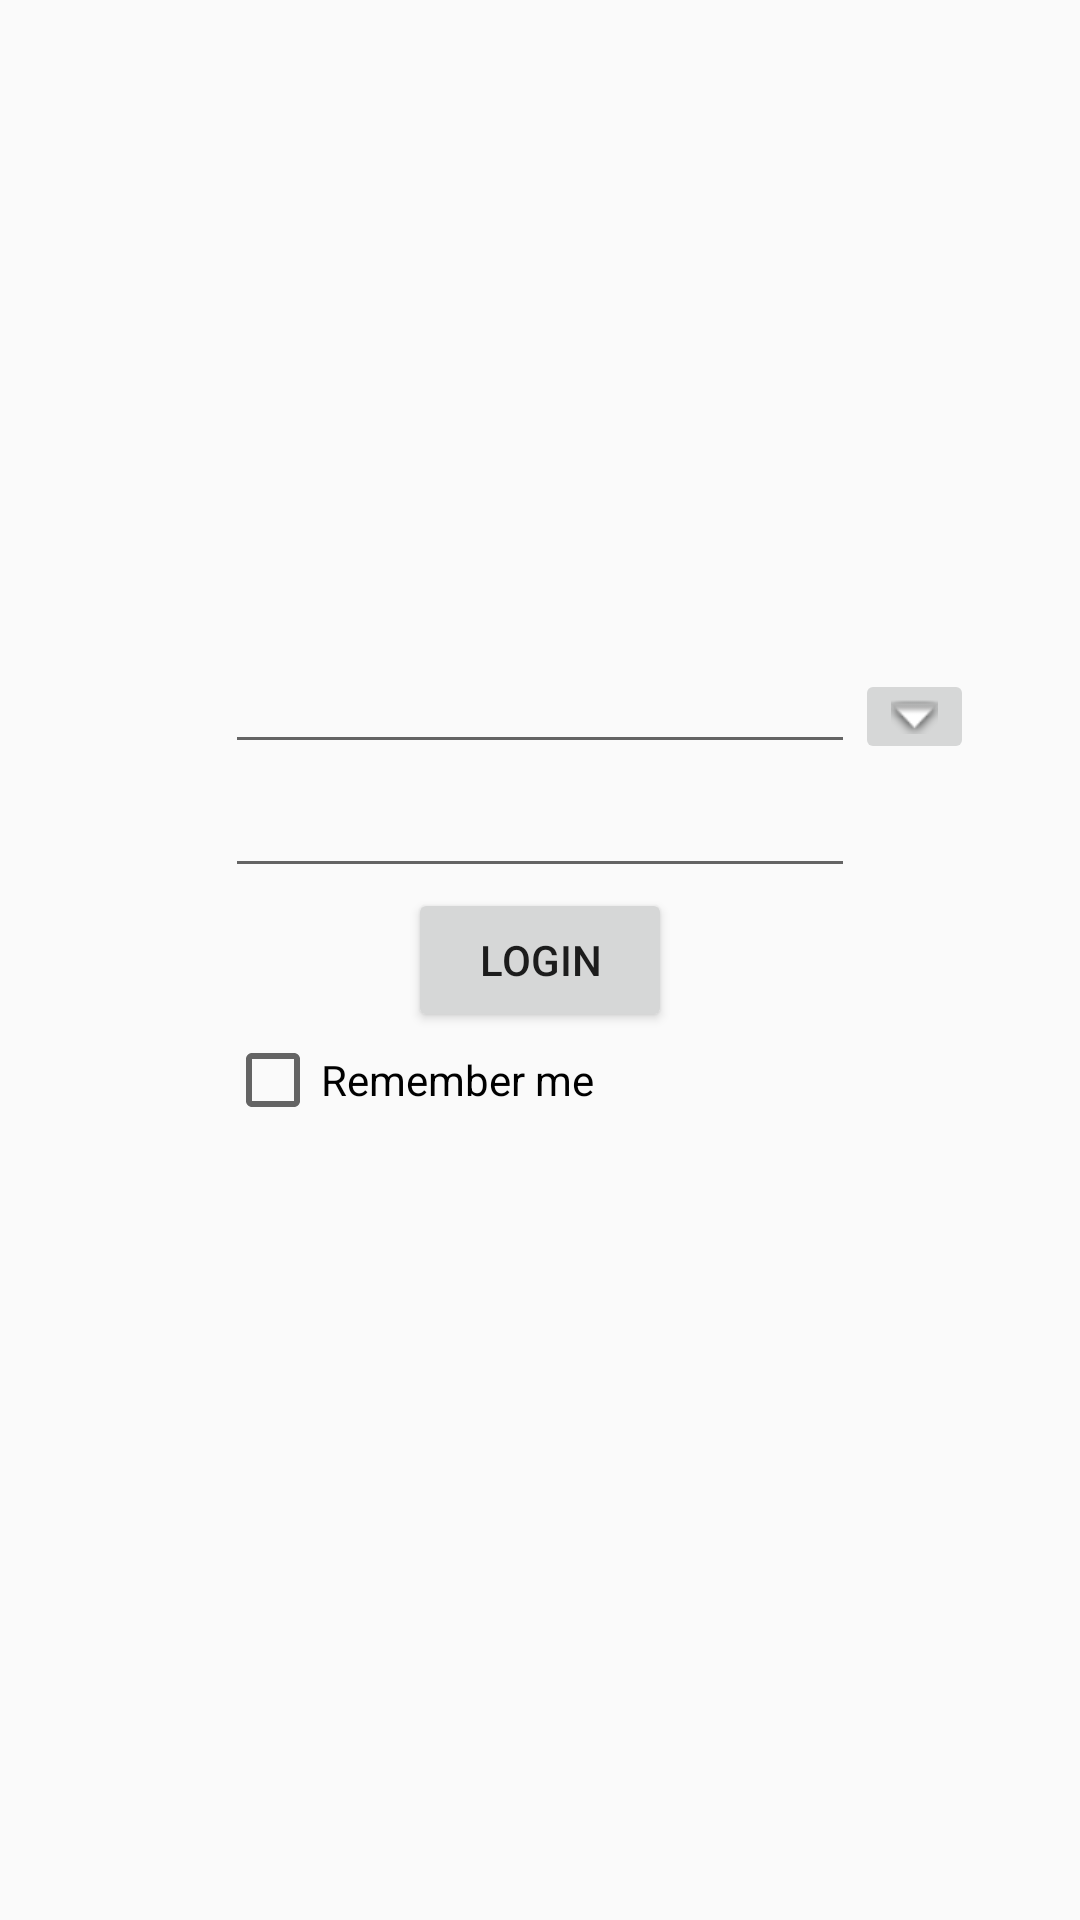

Icons on this 1080 x 1920 Android screen, each with its box as (x1,y1,x2,y2):
arrow down float: (867,687,962,746)
